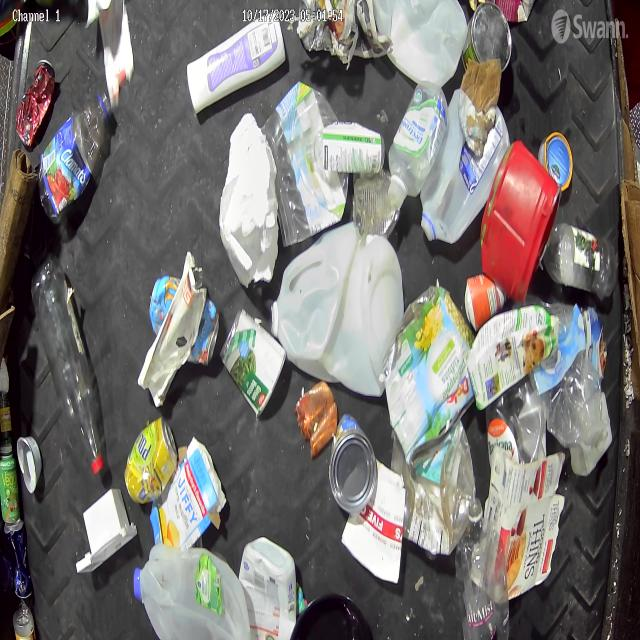can: (219, 308, 286, 416), (328, 414, 376, 516), (124, 414, 178, 504), (461, 1, 513, 76), (354, 169, 406, 241), (17, 57, 54, 151)
milk_jug: (269, 222, 403, 395), (420, 89, 510, 245), (132, 544, 255, 640), (382, 1, 468, 85)
plastic_bottle: (31, 261, 105, 478), (37, 90, 115, 223), (454, 495, 510, 640), (546, 225, 614, 298)
